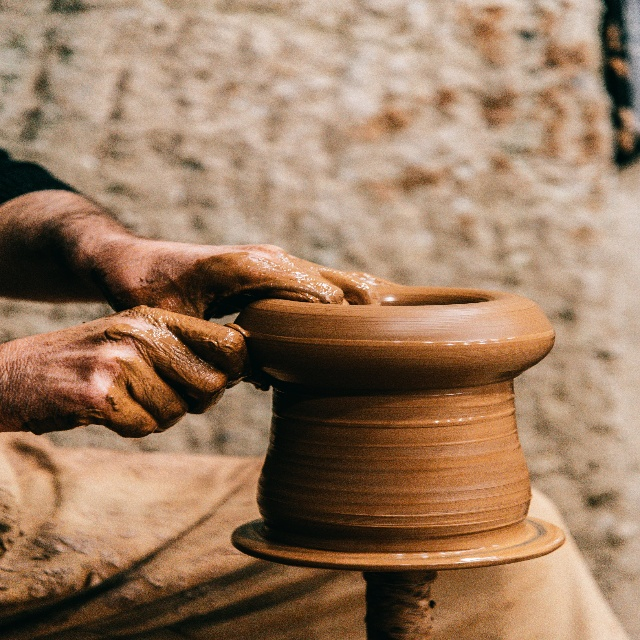Sin_guantes: (12, 305, 252, 439), (111, 240, 380, 320)
